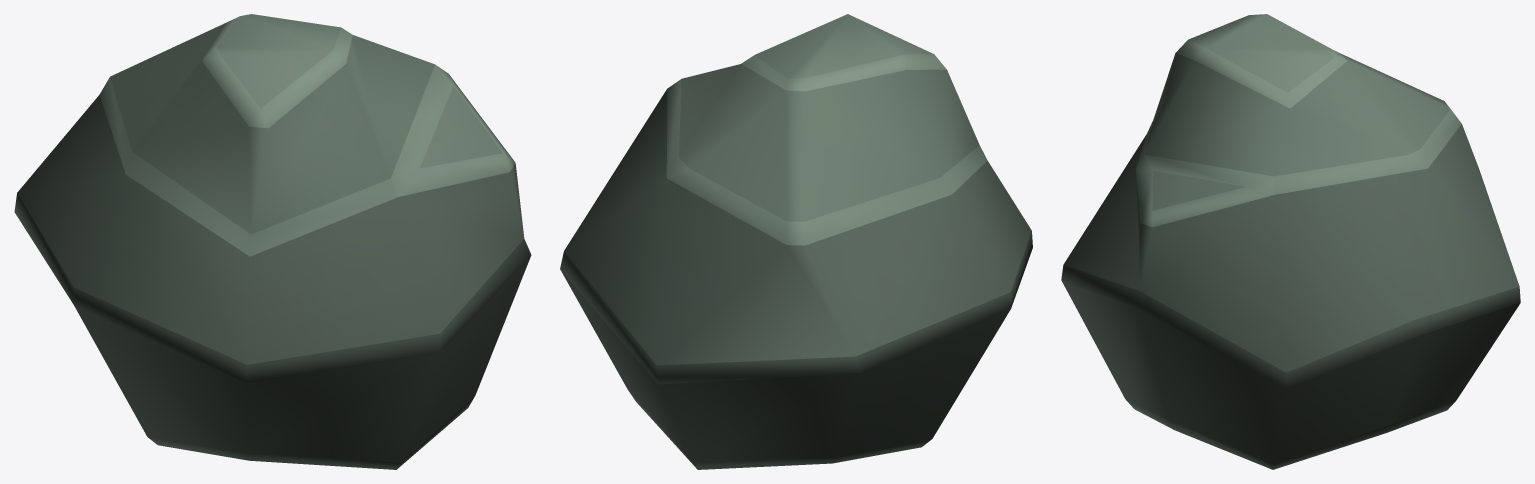
File: stone_4.fbx
3 views of the same model, side by side, from view 1: azimuth 30°, elevation 25°; view 2: azimuth 150°, elevation 25°; view 3: azimuth 270°, elevation 25° (orthographic). The views are drawn at different scales.
Visible parts, largest first — view 1: stone_4; view 2: stone_4; view 3: stone_4.
Part boxes in pixels (left/top/right/bottom): stone_4: left=14, top=14, right=531, bottom=469; stone_4: left=560, top=14, right=1032, bottom=469; stone_4: left=1061, top=14, right=1520, bottom=469.
Size of the model in its own units: 137 by 132 by 139.
1 material, 1 textured.
